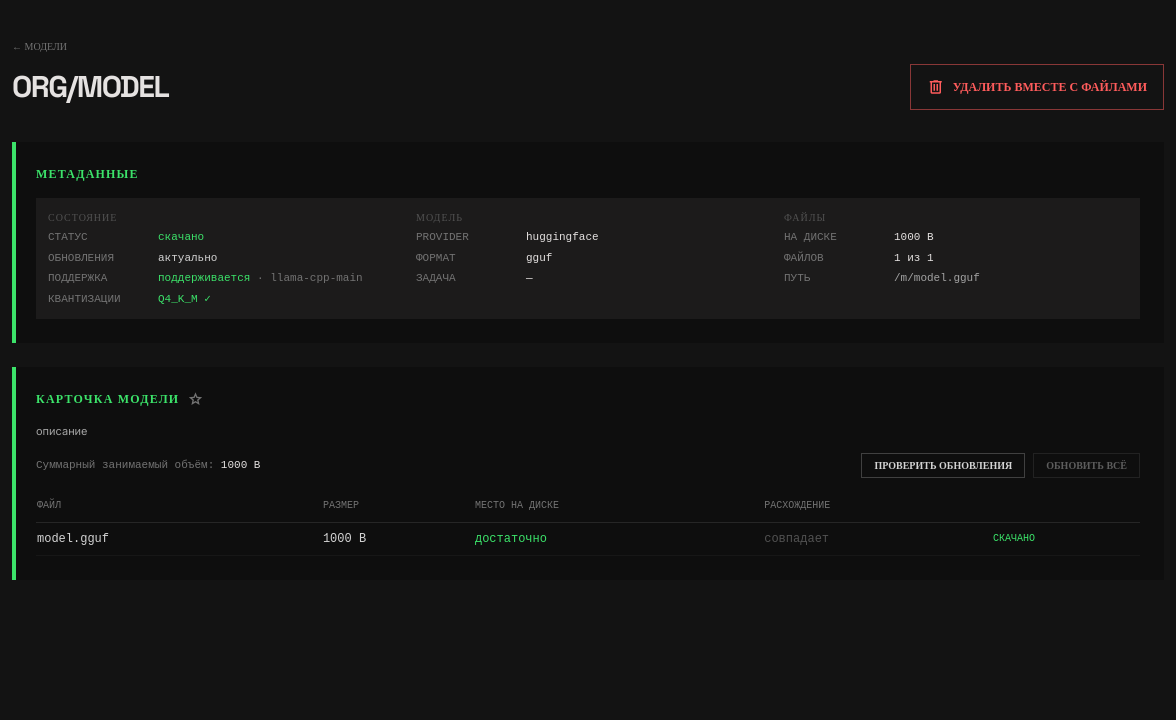
Test: ModelDetailPage — проверка обновлений в карточке › ошибка проверки показана сообщением и не гасит карточку
Click the button with test id "check-this-model": click(943, 465) [861,453,1025,478]
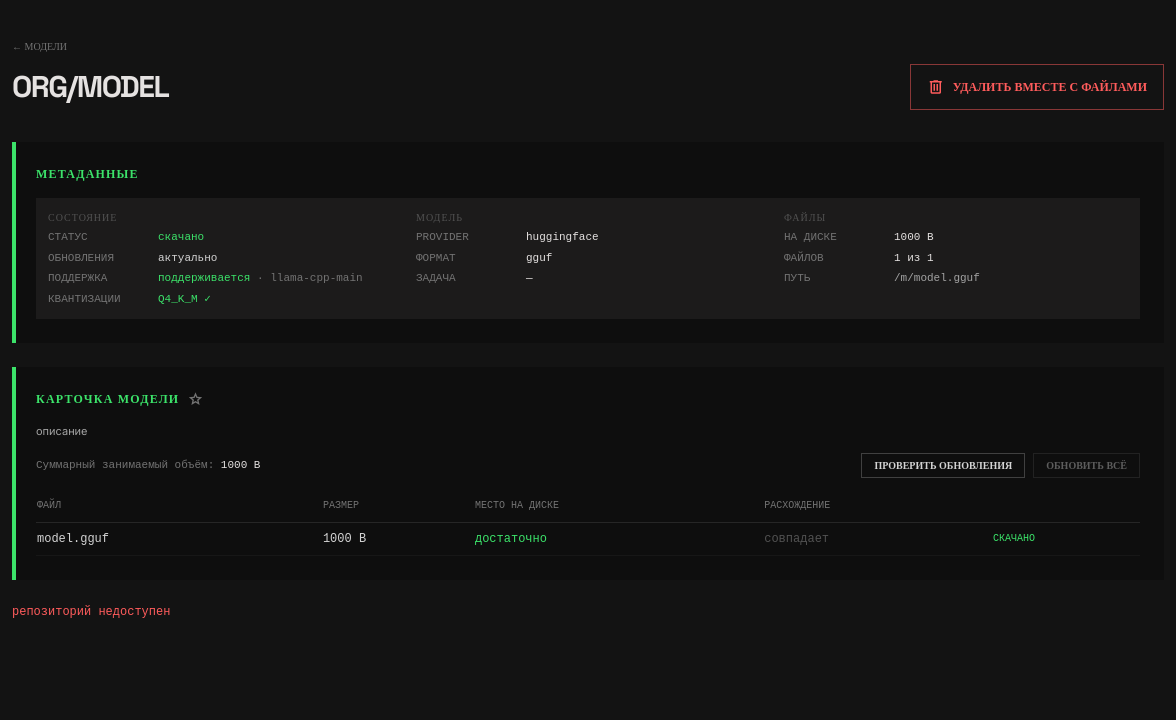
Expected: the text "model.gguf" is shown, [36,522,322,555]
Expected: the text with test id "sync-error" reads "репозиторий недоступен", [12,605,170,619]
